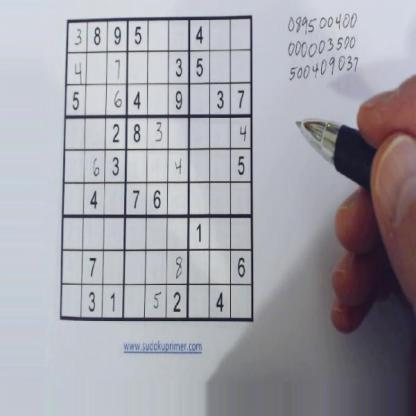sudoku: (57, 14, 257, 322)
